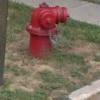Hydrant: (22, 1, 76, 64)
